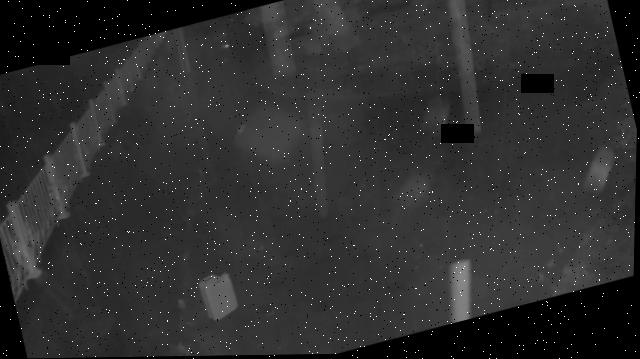bag: (197, 269, 243, 325)
